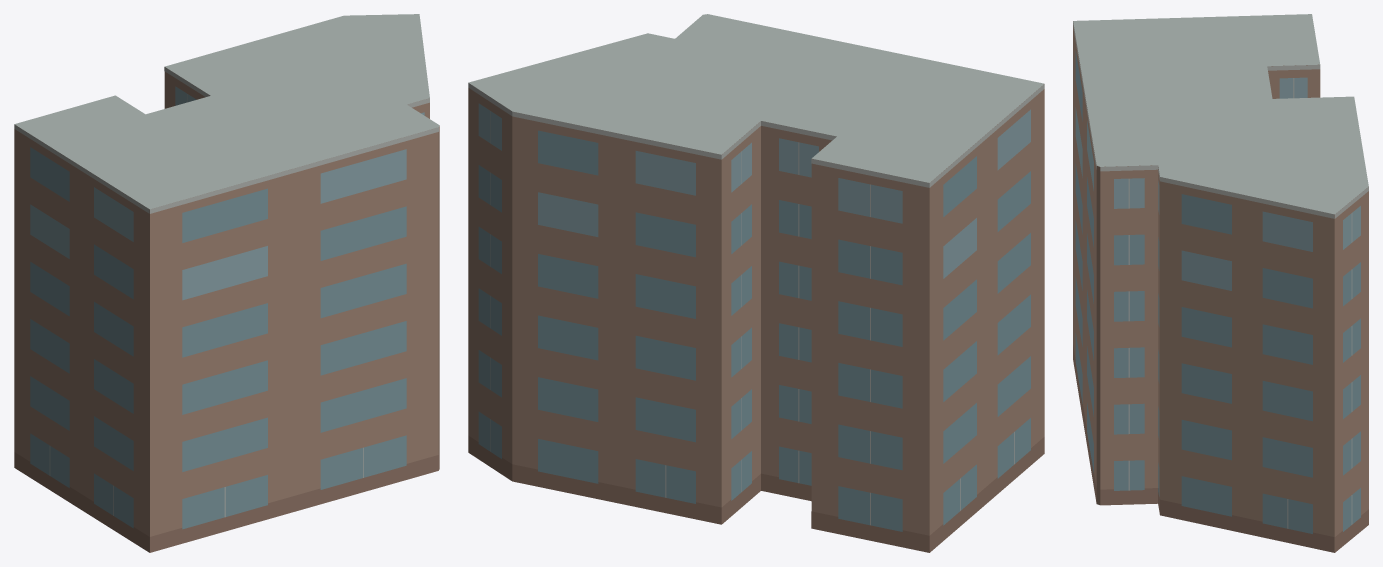
Rendered from survey-upis-32757148.glb.
3 renders of one model, left to right at view 1: azimuth 30°, elevation 25°; view 2: azimuth 150°, elevation 25°; view 3: azimuth 270°, elevation 25°, orthographic. The views are drawn at different scales.
Visible parts, largest first — view 1: survey-upis-32757148.tmp; view 2: survey-upis-32757148.tmp; view 3: survey-upis-32757148.tmp.
Part boxes in pixels (x1,y1,x2,y2): survey-upis-32757148.tmp: [14, 14, 439, 552]; survey-upis-32757148.tmp: [468, 14, 1044, 552]; survey-upis-32757148.tmp: [1073, 14, 1368, 552].
Bounding box in the file's own units: 23.25 × 18.3 × 14.5.
